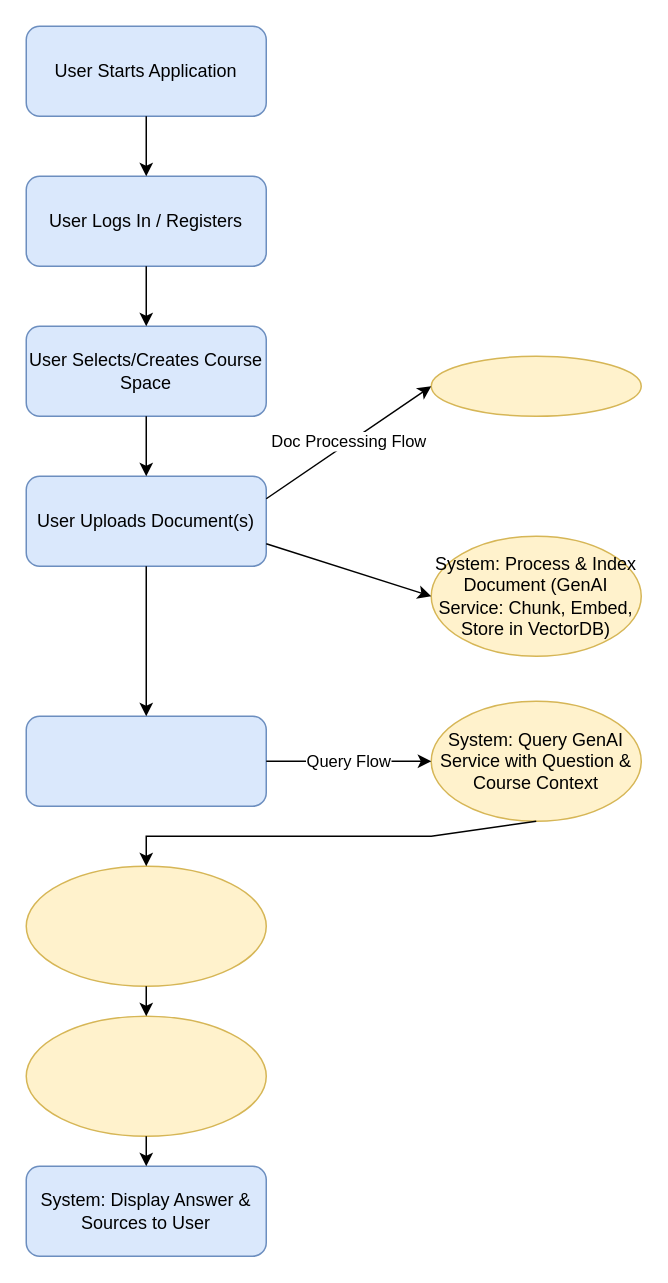
Some shapes in this 668 by 1283 pixel diagram are drawn without their labels. The box of each missing label's shape, as (x1, y1, x2, y2) in pixels:
GenAI Service: Generate Answer using LLM & Chunks: (25, 1015, 266, 1136)
GenAI Service: Retrieve Relevant Chunks (RAG from VectorDB): (25, 865, 266, 986)
System: Store Document Metadata (DB): (430, 355, 641, 416)
User Asks Question in Course Space: (25, 715, 266, 806)
